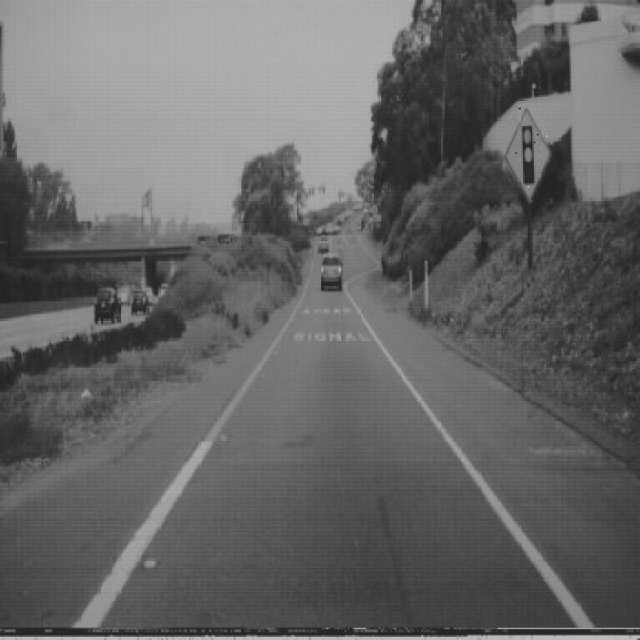signalAhead: (505, 105, 551, 202)
